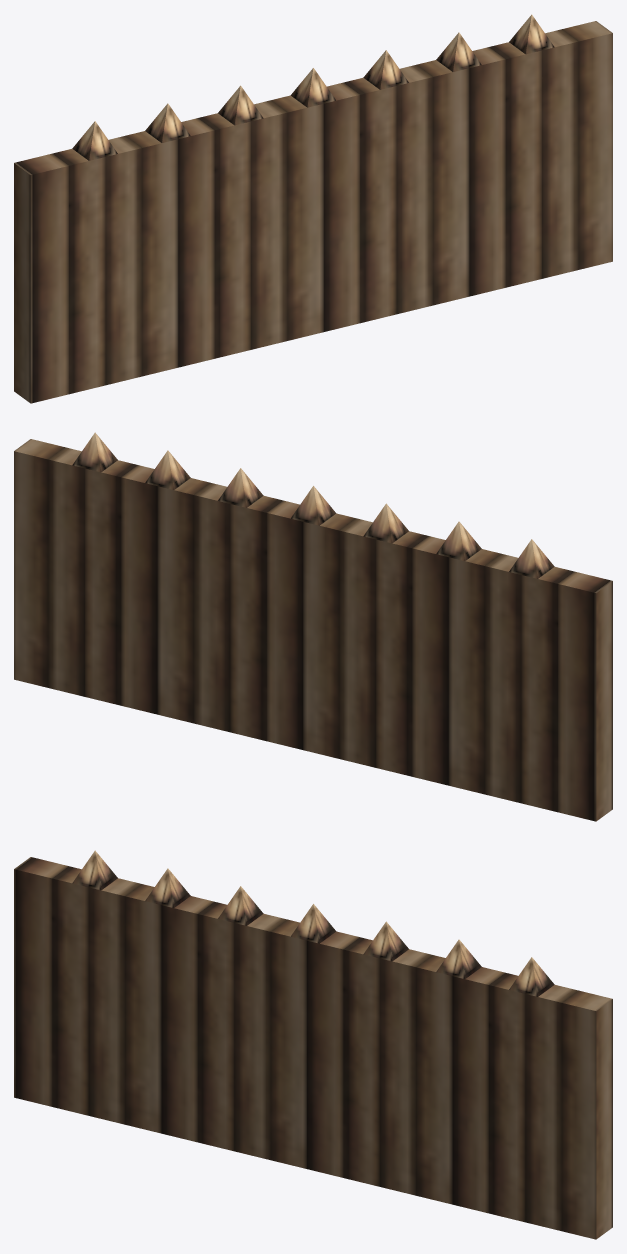
Rendered from wall.DAE.
The picture shows the model from 3 angles, top to bottom: view 1: azimuth 30°, elevation 25°; view 2: azimuth 150°, elevation 25°; view 3: azimuth 330°, elevation 25°; orthographic projection.
Visible parts, largest first — view 1: Box003; view 2: Box003; view 3: Box003.
Part boxes in pixels (box(x1,y1,x2,y2)): Box003: box(14, 14, 612, 403); Box003: box(14, 432, 612, 821); Box003: box(14, 850, 612, 1239).
Bounding box in the file's own units: 40 × 2 × 17.
